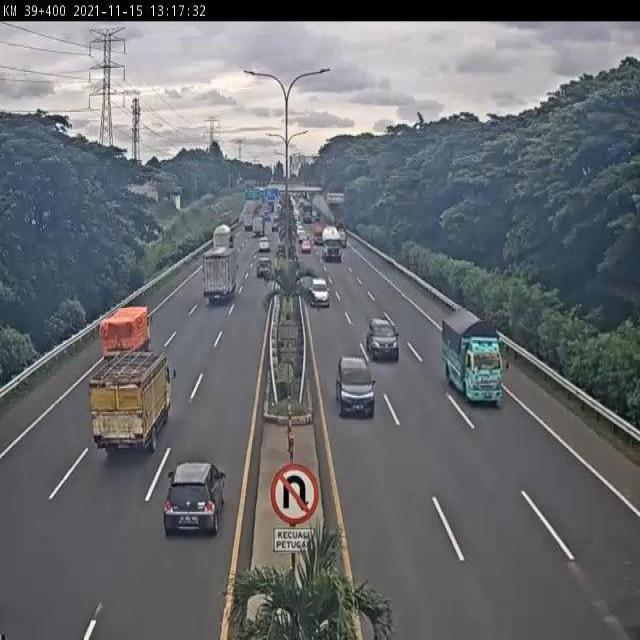car: (163, 460, 226, 535), (336, 355, 375, 416), (367, 316, 400, 361), (309, 276, 331, 309), (256, 256, 274, 277)
truck-l-: (322, 225, 343, 263)
truck-m-: (92, 352, 172, 456), (440, 309, 503, 407), (100, 305, 152, 360), (204, 248, 238, 304)
